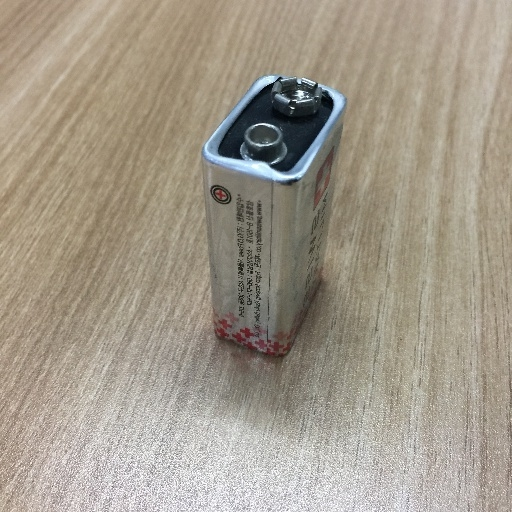Battery_3: (183, 58, 361, 377)
